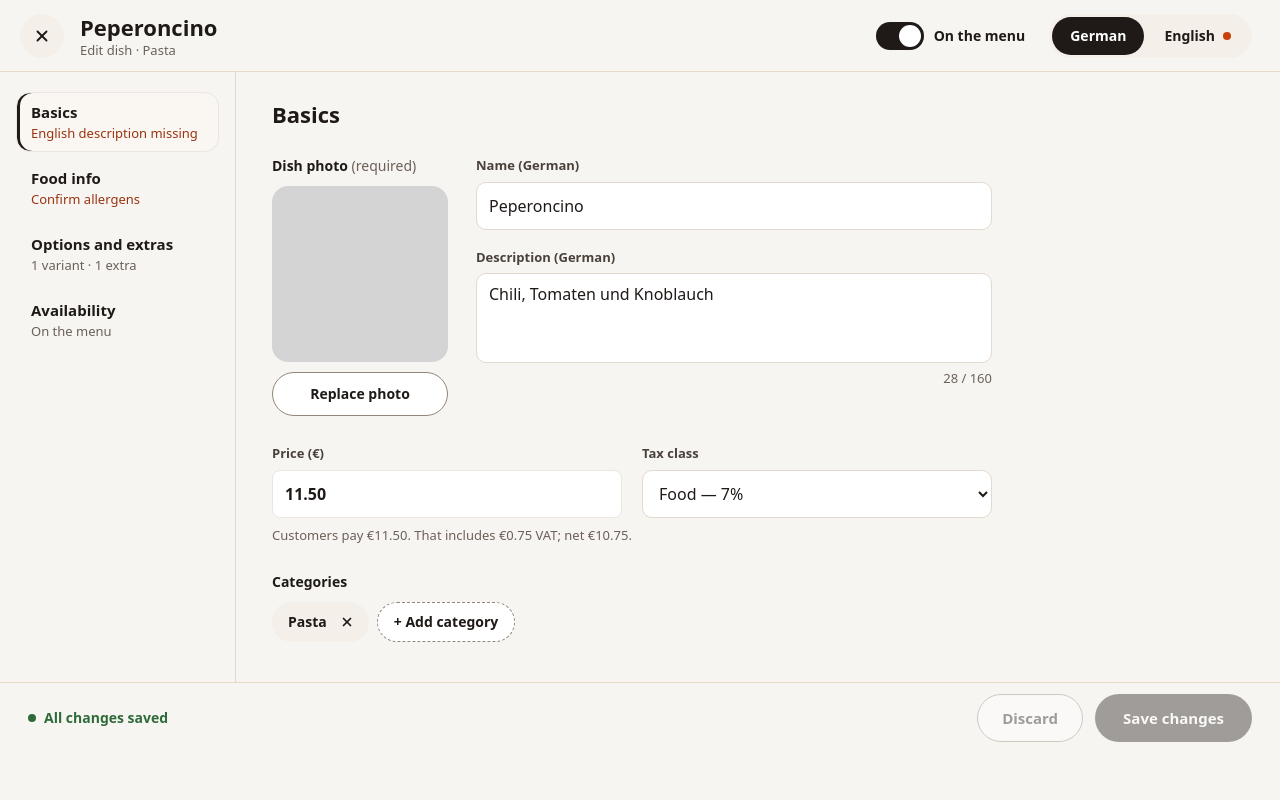
Test case: DishForm footer › Save and Discard are really disabled until something changes, then Discard reverts
Expected: the button "Save changes" is disabled, [1095, 694, 1252, 742]
Expected: the button "Discard" is disabled, [977, 694, 1083, 742]
Replace the text in the field labelled "Name (German)" with "Peperoncino XL": (734, 206) [476, 182, 992, 230]
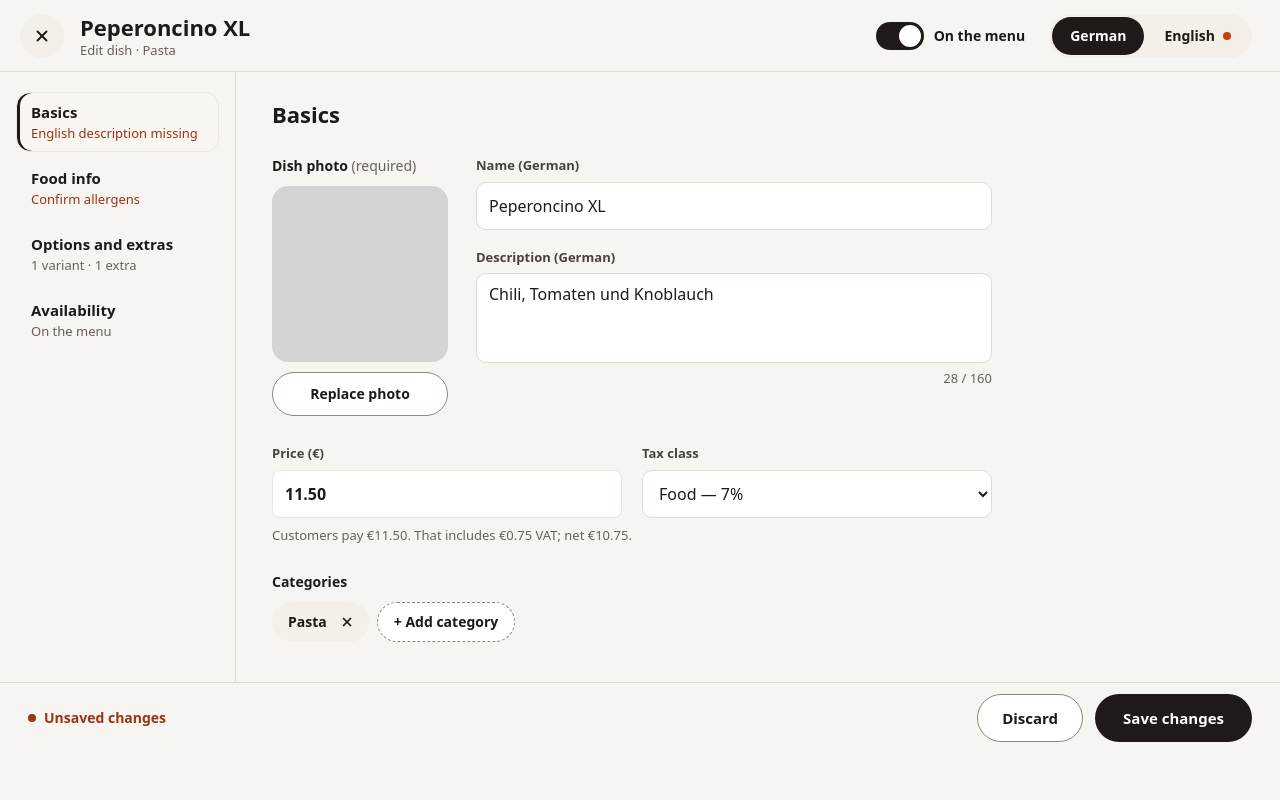
Now the button "Save changes" is enabled, box [1095, 694, 1252, 742]
Now the button "Discard" is enabled
Now the message reads "Unsaved changes", box [44, 708, 166, 727]
Click the button "Discard": (1030, 718) [977, 694, 1083, 742]
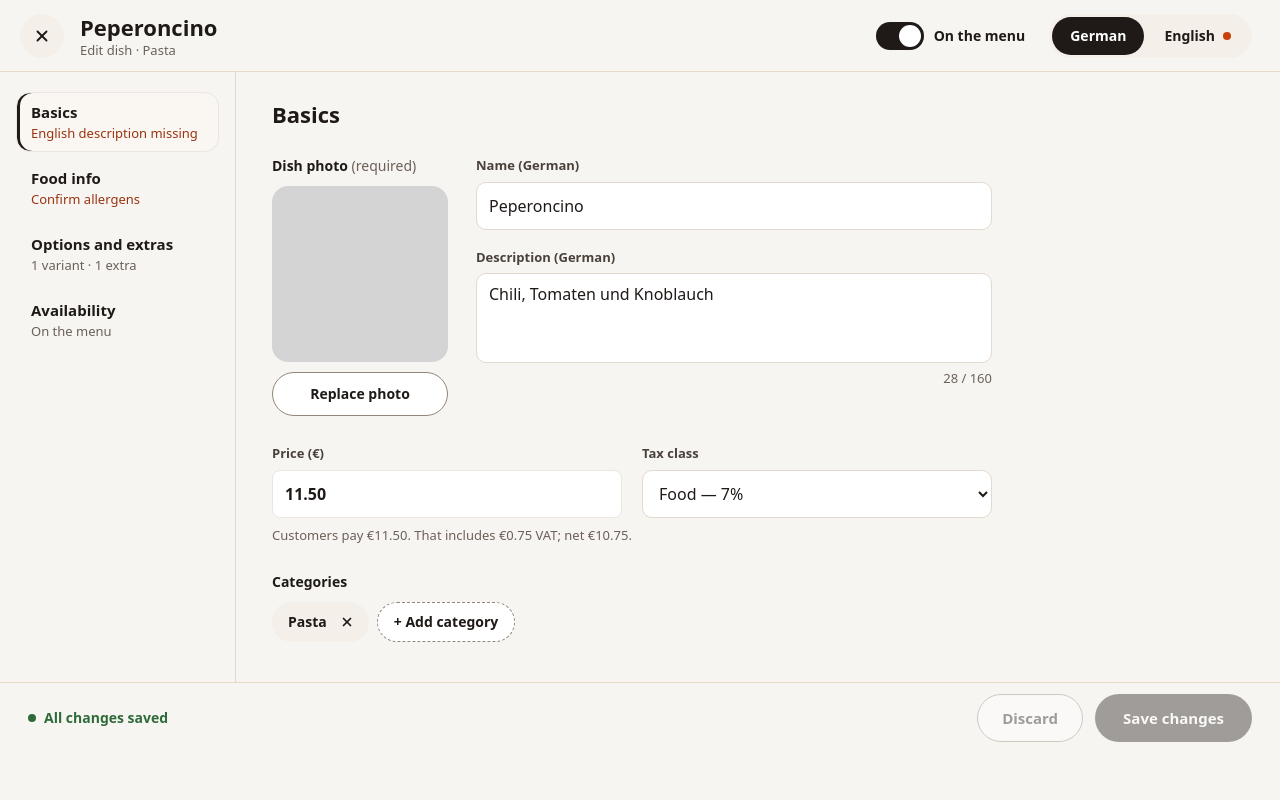
Now the field labelled "Name (German)" holds "Peperoncino", box [476, 182, 992, 230]
Now the button "Save changes" is disabled, box [1095, 694, 1252, 742]
